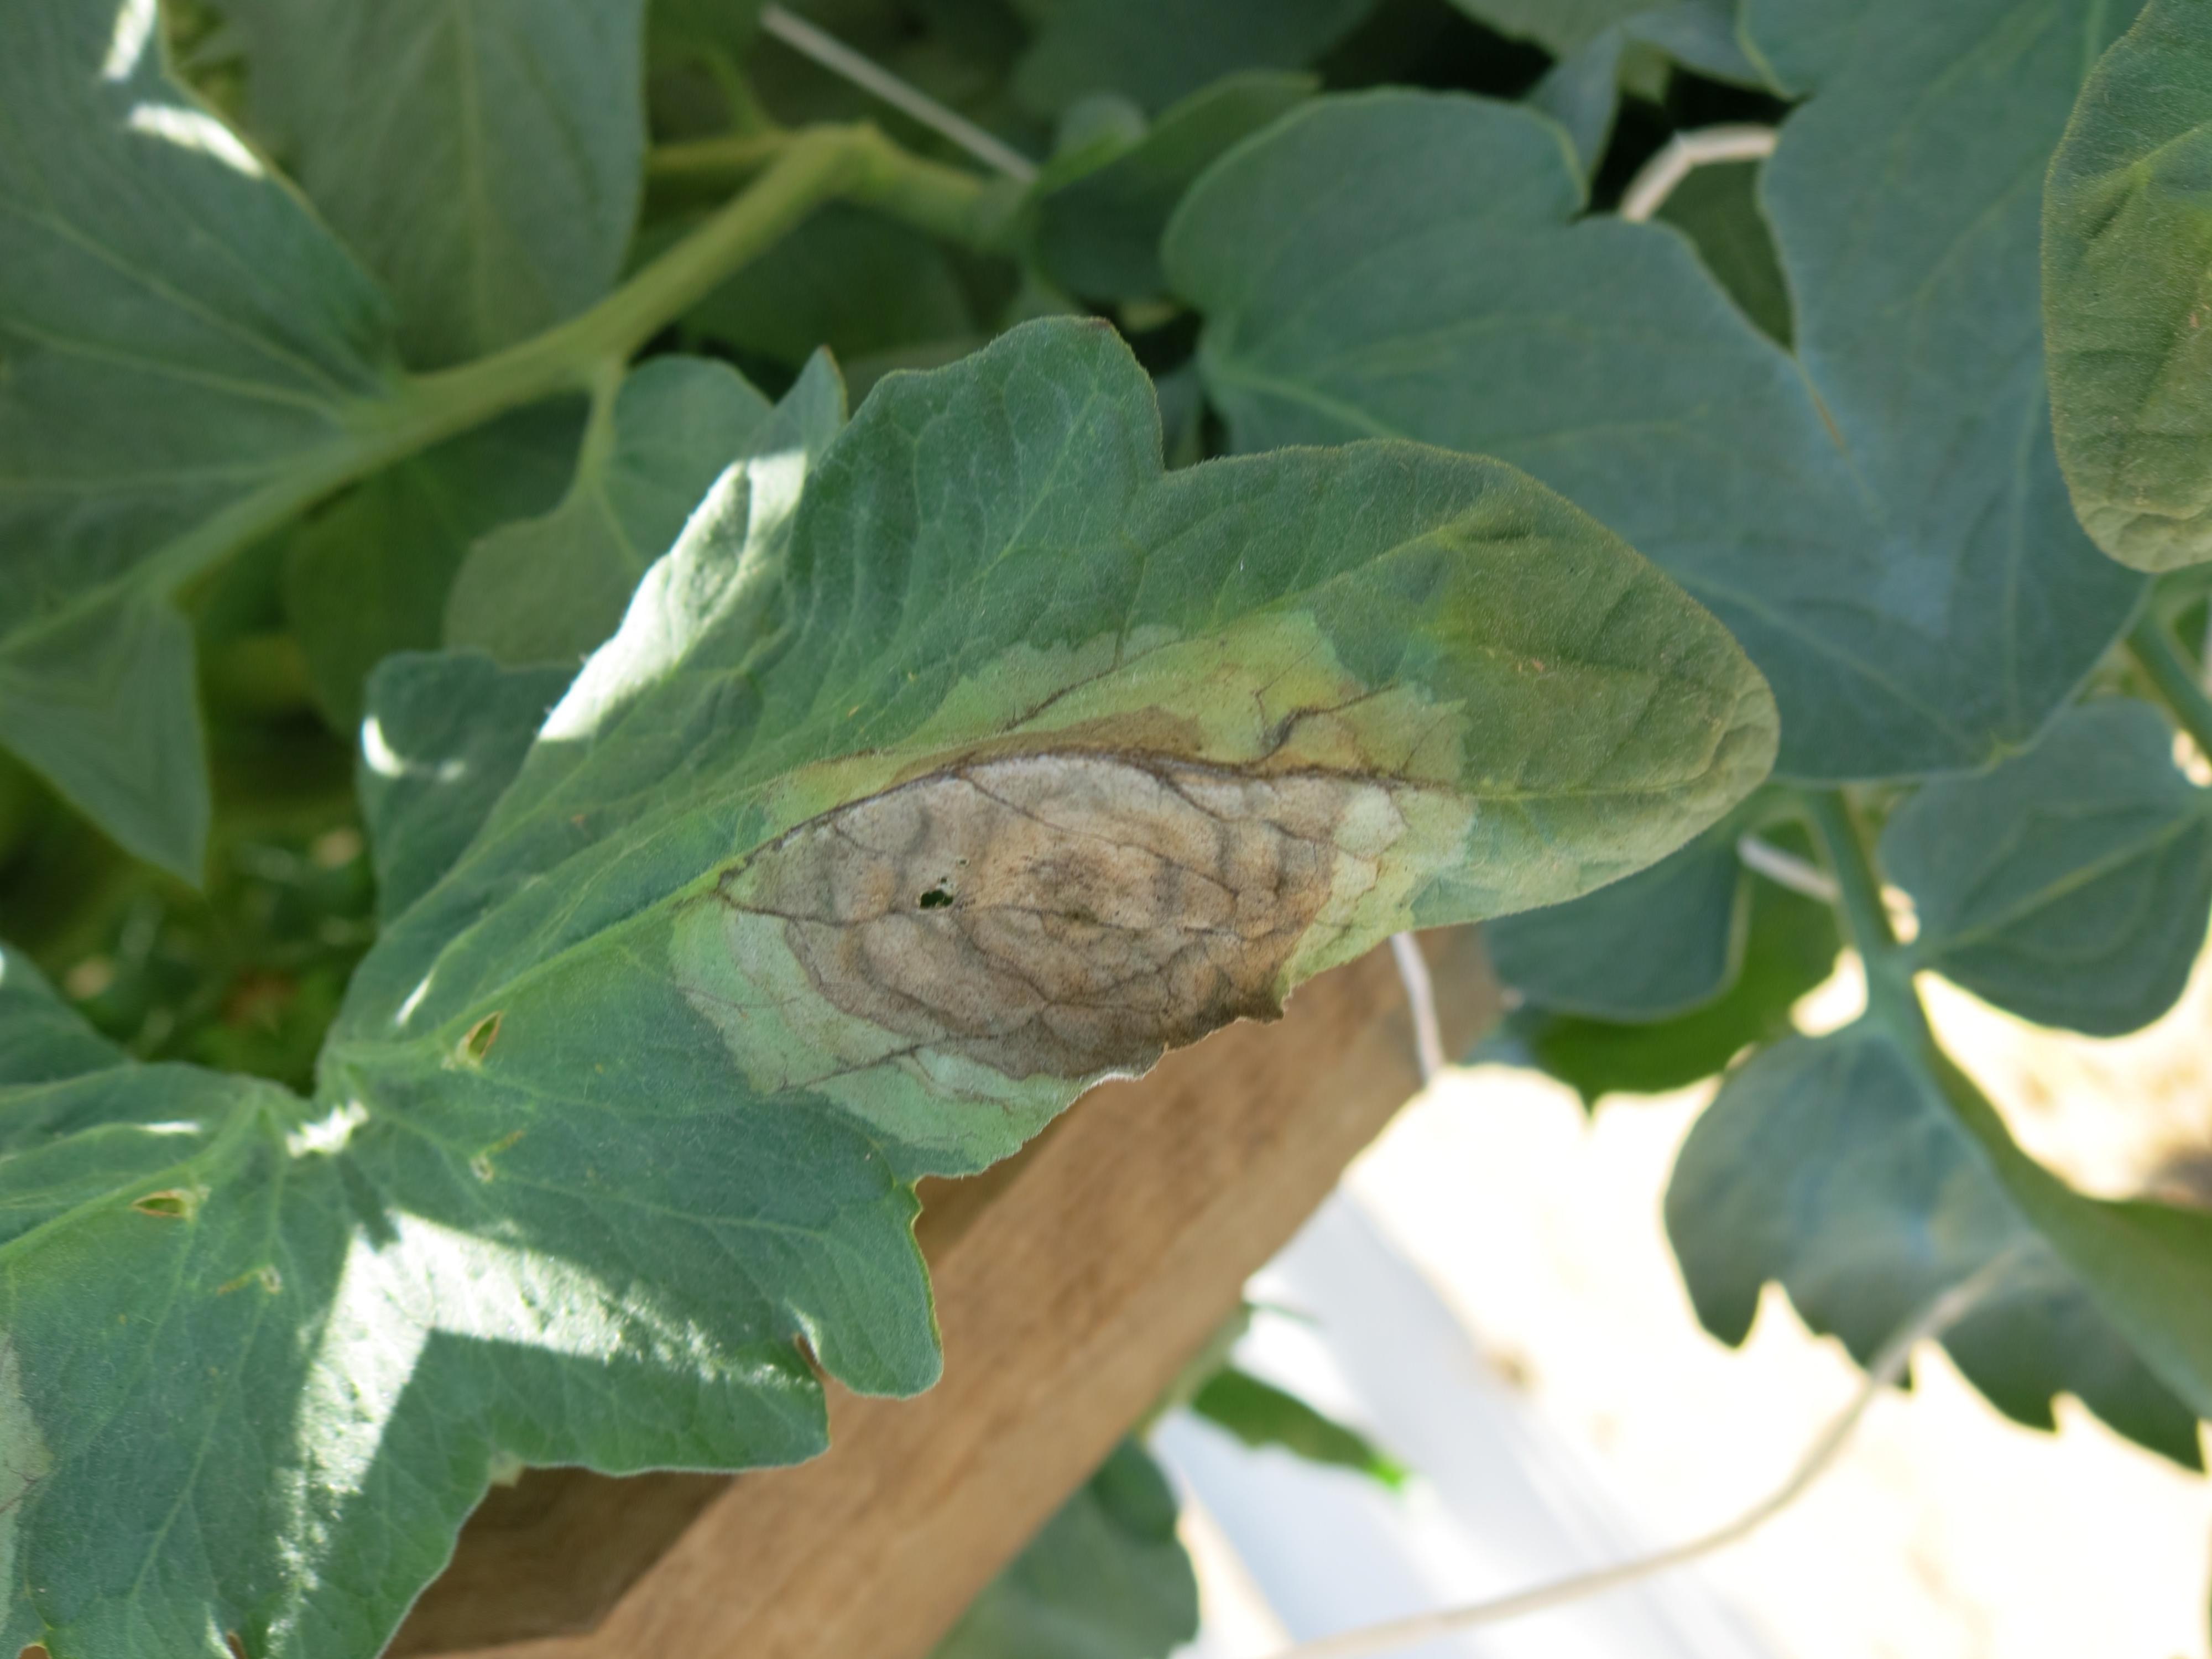Tomato leaf late blight: (96, 0, 1929, 1592)
